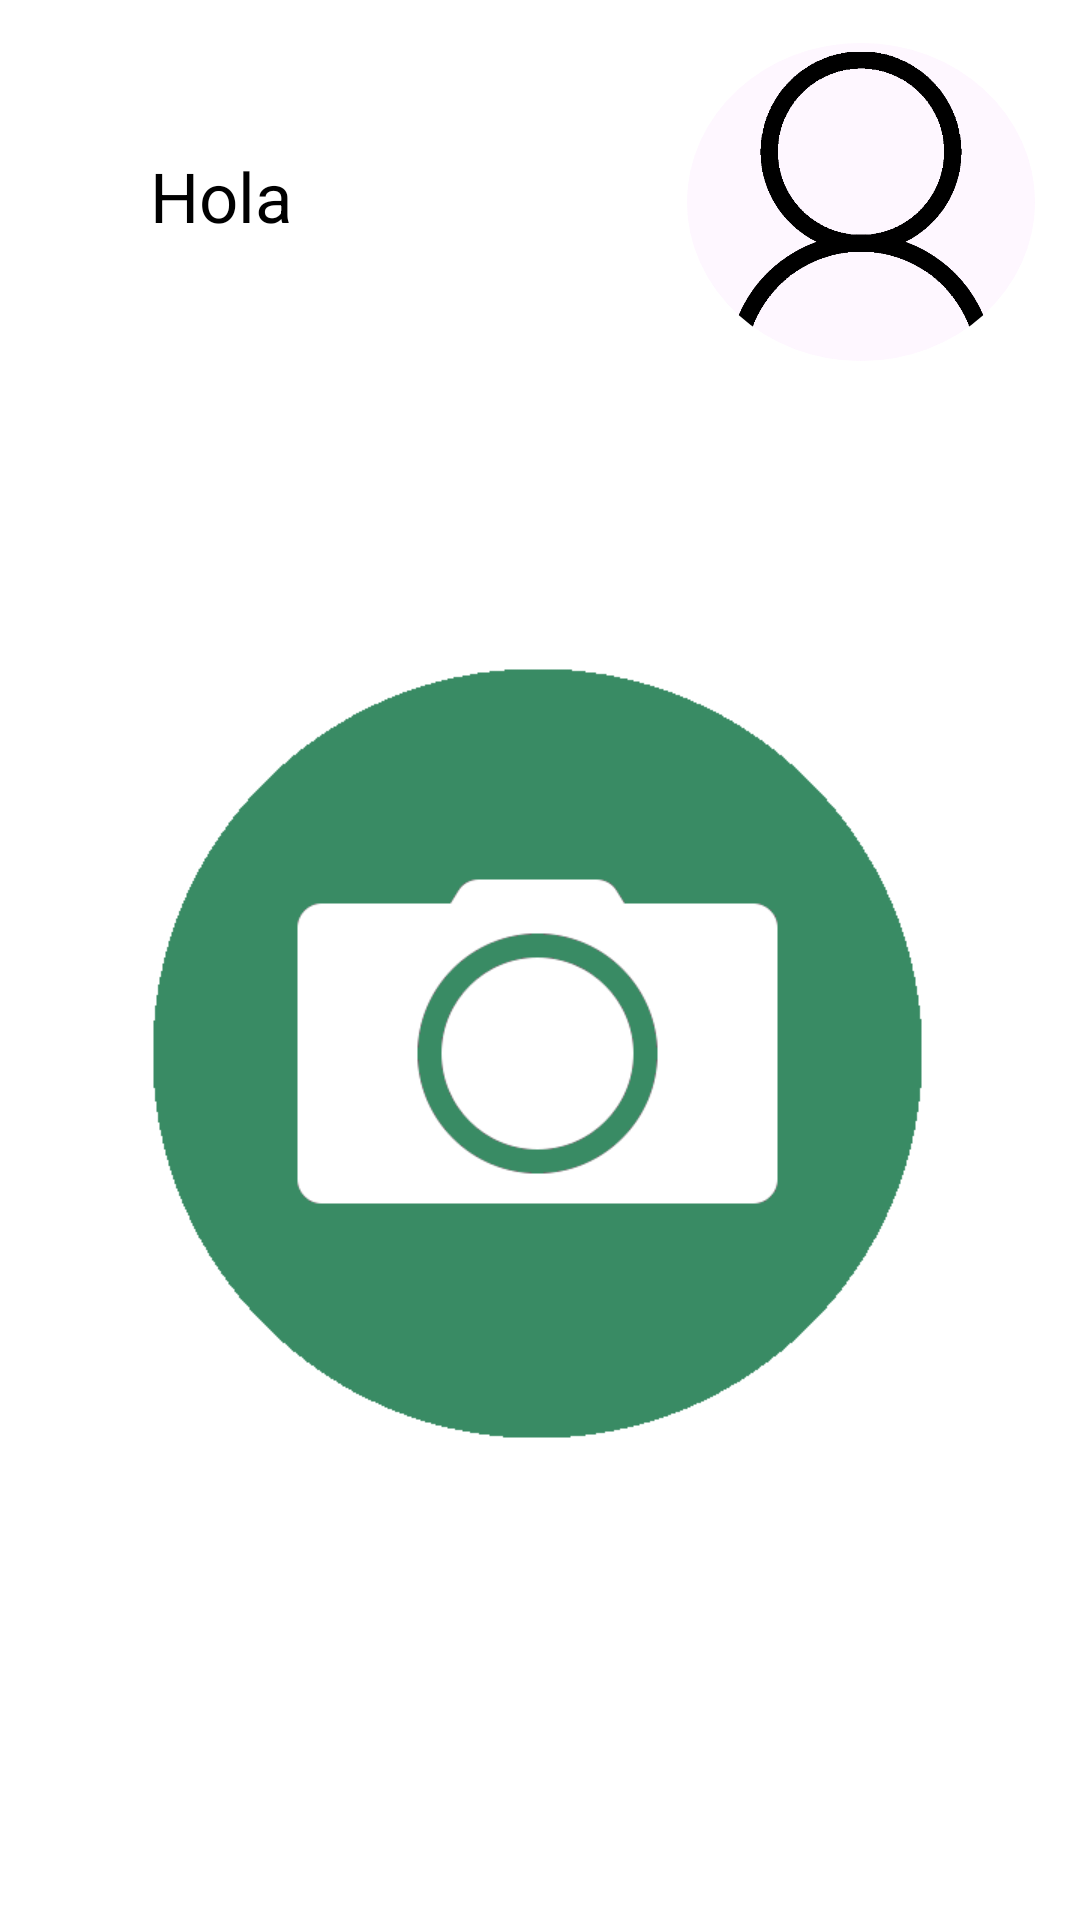

Icons on this 1080 × 1920 Android screen, each with the point to tap as point (x, y):
botonperfil: point (861, 189)
